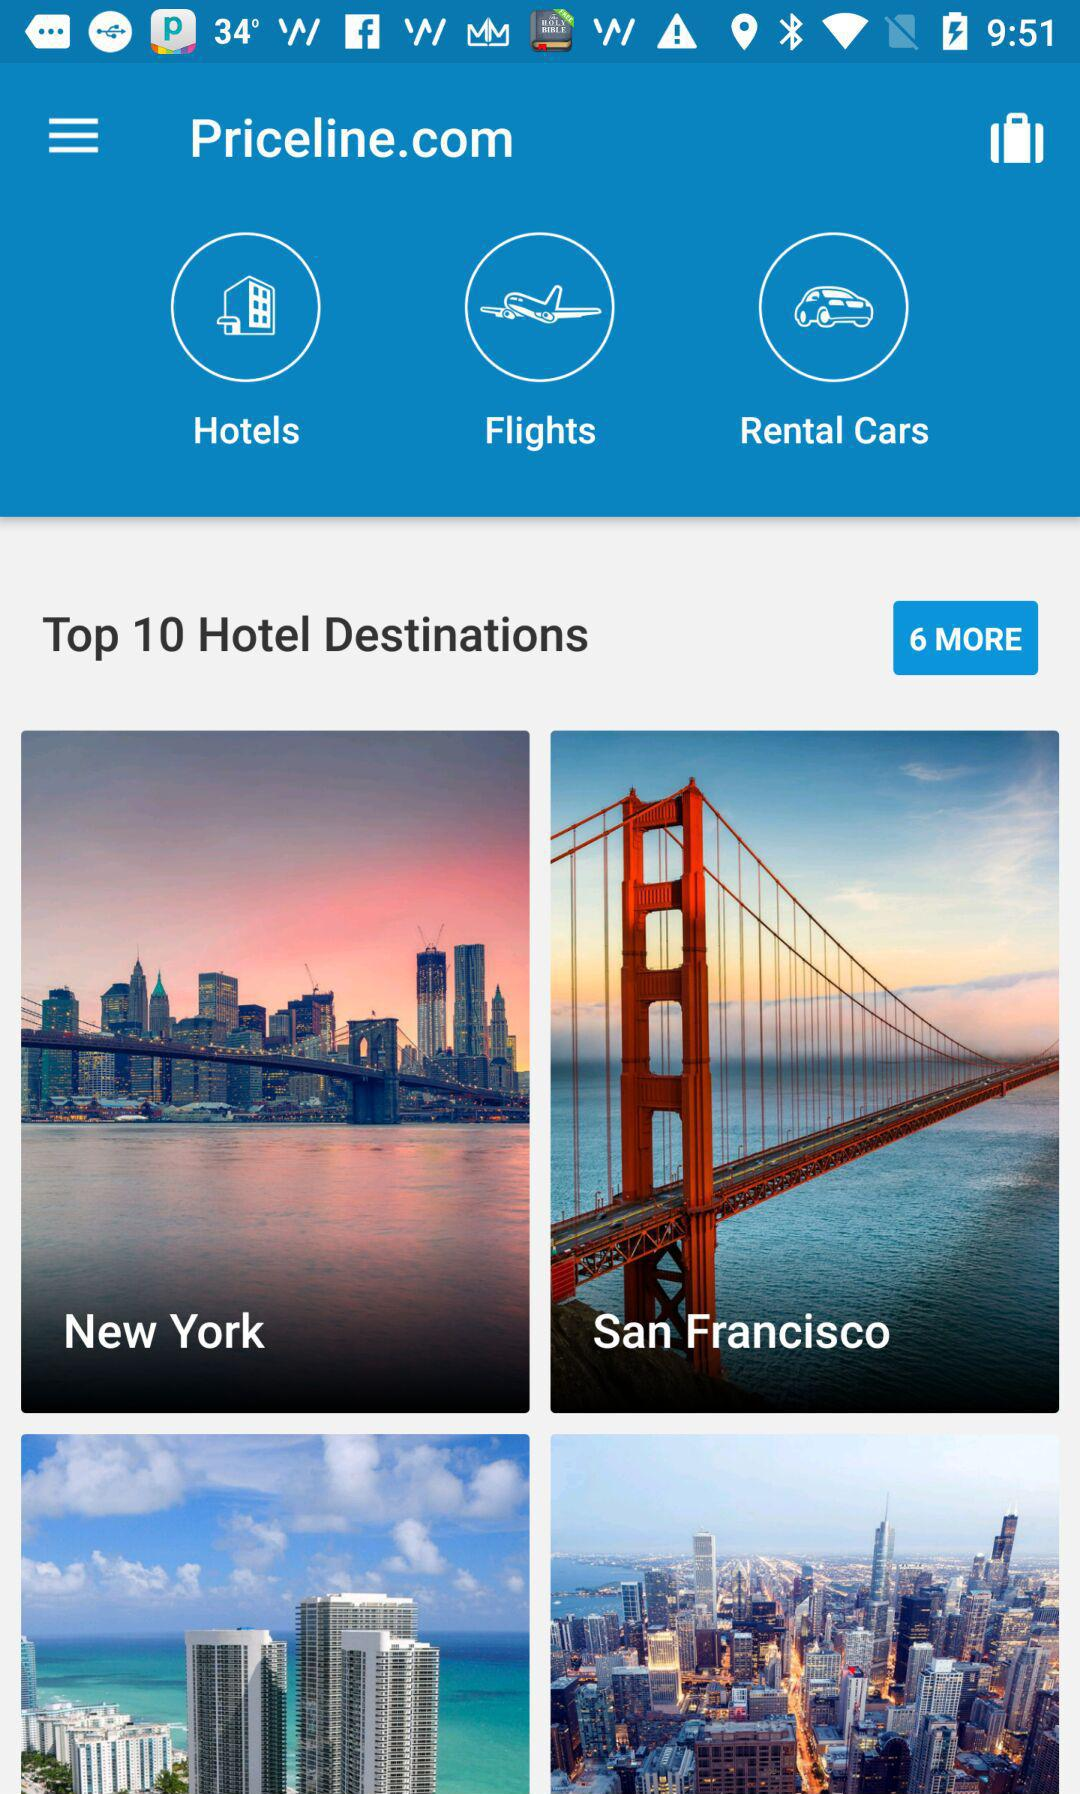Icon: (989, 111, 1045, 165), (47, 117, 101, 156)
Image: (550, 730, 1060, 1413), (20, 730, 530, 1413), (20, 1433, 530, 1794), (550, 1434, 1060, 1794), (464, 232, 616, 384), (758, 231, 910, 383), (172, 233, 322, 384)
Text: (44, 616, 589, 662), (192, 117, 512, 160), (593, 1312, 890, 1351), (65, 1311, 266, 1351), (740, 415, 929, 446), (487, 415, 597, 454), (195, 415, 301, 446)
TextButton: (892, 600, 1039, 677)
UpperTaskBar: (1, 1, 1080, 64)
